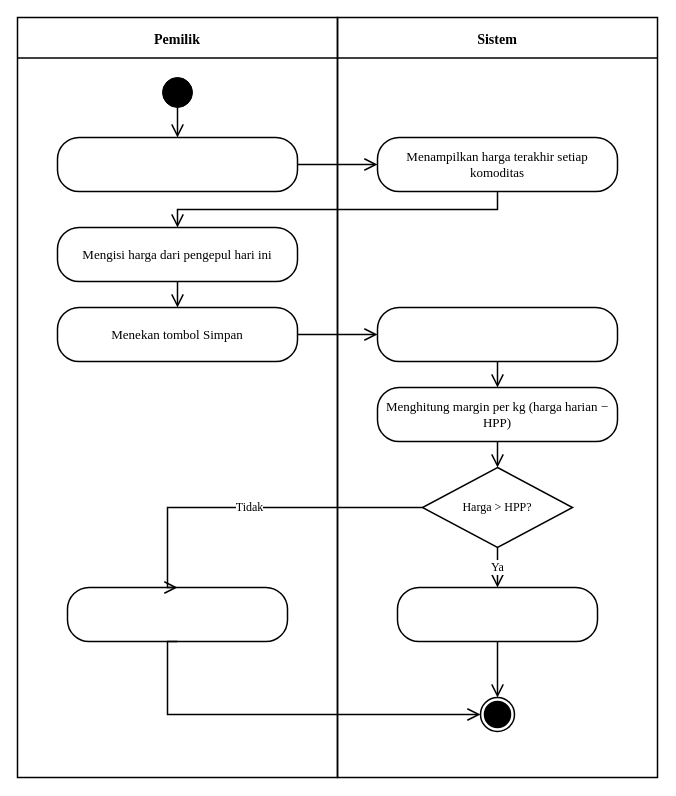
Some shapes in this 676 by 796 pixel diagram are drawn without their labels. Here are the shapes that lost their labels. From the top down, the centre of each, then its label:
At (x=177, y=164): "Membuka menu Harga Harian".
At (x=497, y=334): "Menyimpan harga beserta tanggal".
At (x=177, y=614): "Menampilkan peringatan harga di bawah modal".
At (x=497, y=614): "Menampilkan status untung per kg".
